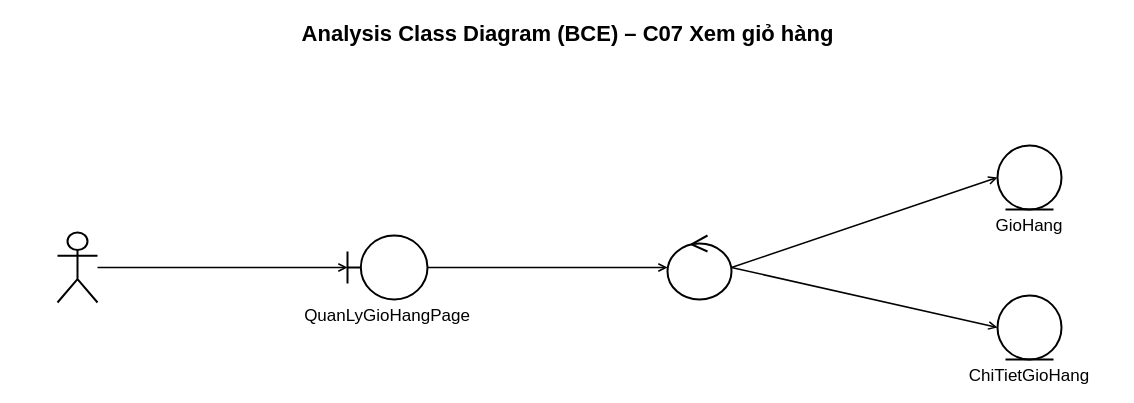
Image size: 1134x403. Some labels were removed from this diagram. Here are the shapes that lost their labels. From the top down, the centre of each, then its label:
[77,267]: Khách hàng
[699,267]: QuanLyGioHangController
